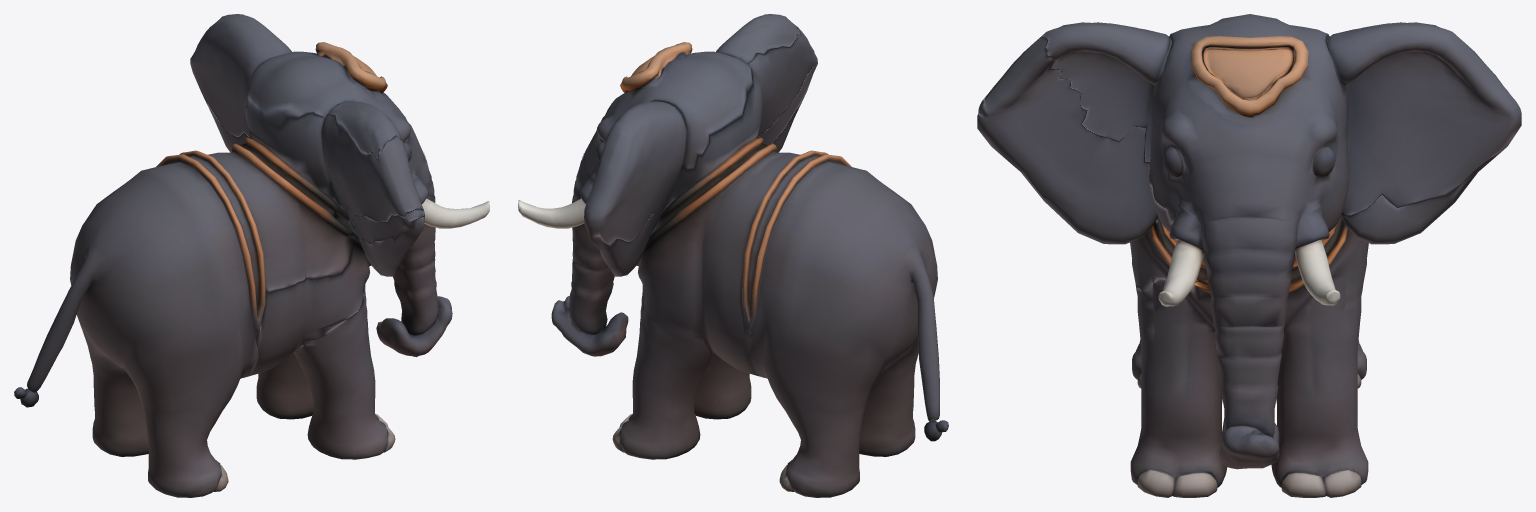
File: elephant.glb
3 views of the same model, side by side, from view 1: azimuth 30°, elevation 25°; view 2: azimuth 150°, elevation 25°; view 3: azimuth 270°, elevation 25° (orthographic). The views are drawn at different scales.
Parts seen in each view (by area): view 1: tripo_node_e2bda30e-3b05-4b57-ad87-67be62fad1a8; view 2: tripo_node_e2bda30e-3b05-4b57-ad87-67be62fad1a8; view 3: tripo_node_e2bda30e-3b05-4b57-ad87-67be62fad1a8.
Part boxes in pixels (bbox=[...]): tripo_node_e2bda30e-3b05-4b57-ad87-67be62fad1a8: bbox=[14, 14, 489, 497]; tripo_node_e2bda30e-3b05-4b57-ad87-67be62fad1a8: bbox=[518, 14, 948, 497]; tripo_node_e2bda30e-3b05-4b57-ad87-67be62fad1a8: bbox=[977, 14, 1521, 497].
Size of the model in its own units: 0.359 by 0.3 by 0.3267.
1 material, 1 textured.
